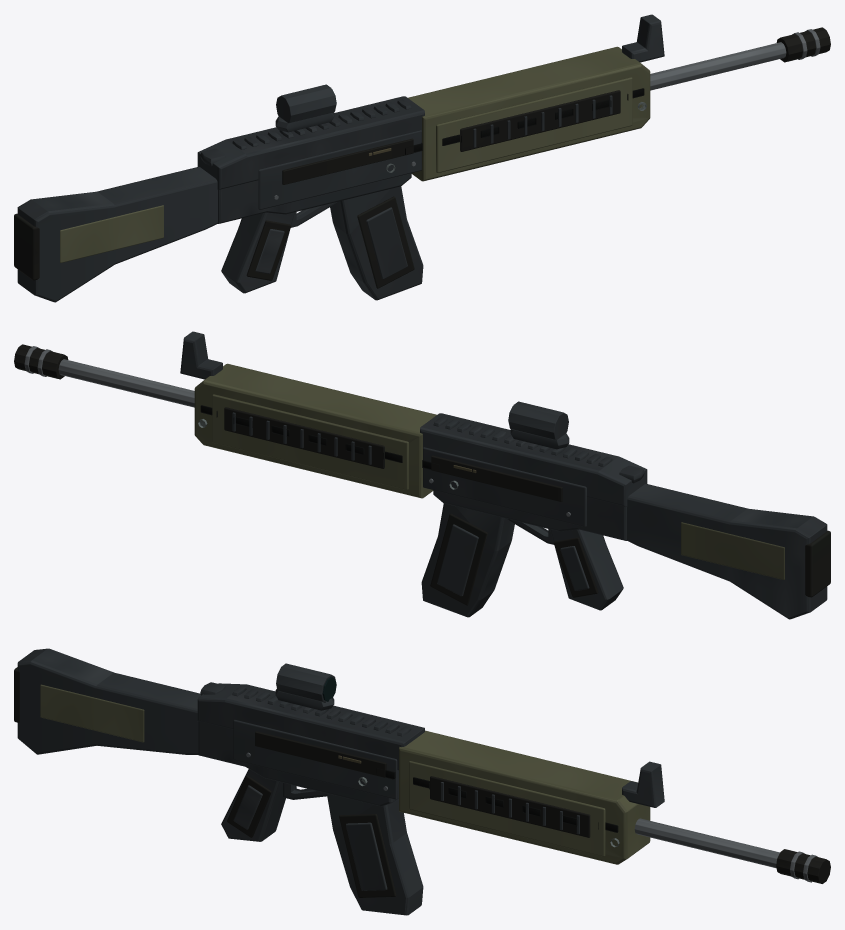
3 renders of one model, top to bottom at view 1: azimuth 30°, elevation 25°; view 2: azimuth 150°, elevation 25°; view 3: azimuth 330°, elevation 25°, orthographic.
Visible parts, largest first — view 1: ar_premium, hand | consolidated detail; view 2: ar_premium, hand | consolidated detail; view 3: ar_premium, hand | consolidated detail.
Part boxes in pixels (bbox=[...]): ar_premium: bbox=[14, 14, 830, 302]; hand | consolidated detail: bbox=[405, 88, 644, 154]; ar_premium: bbox=[14, 331, 830, 619]; hand | consolidated detail: bbox=[200, 405, 439, 471]; ar_premium: bbox=[14, 648, 830, 915]; hand | consolidated detail: bbox=[376, 768, 618, 832].
Size of the model in its own units: 1.23 by 0.3208 by 0.0925.
8 materials, 8 textured.
